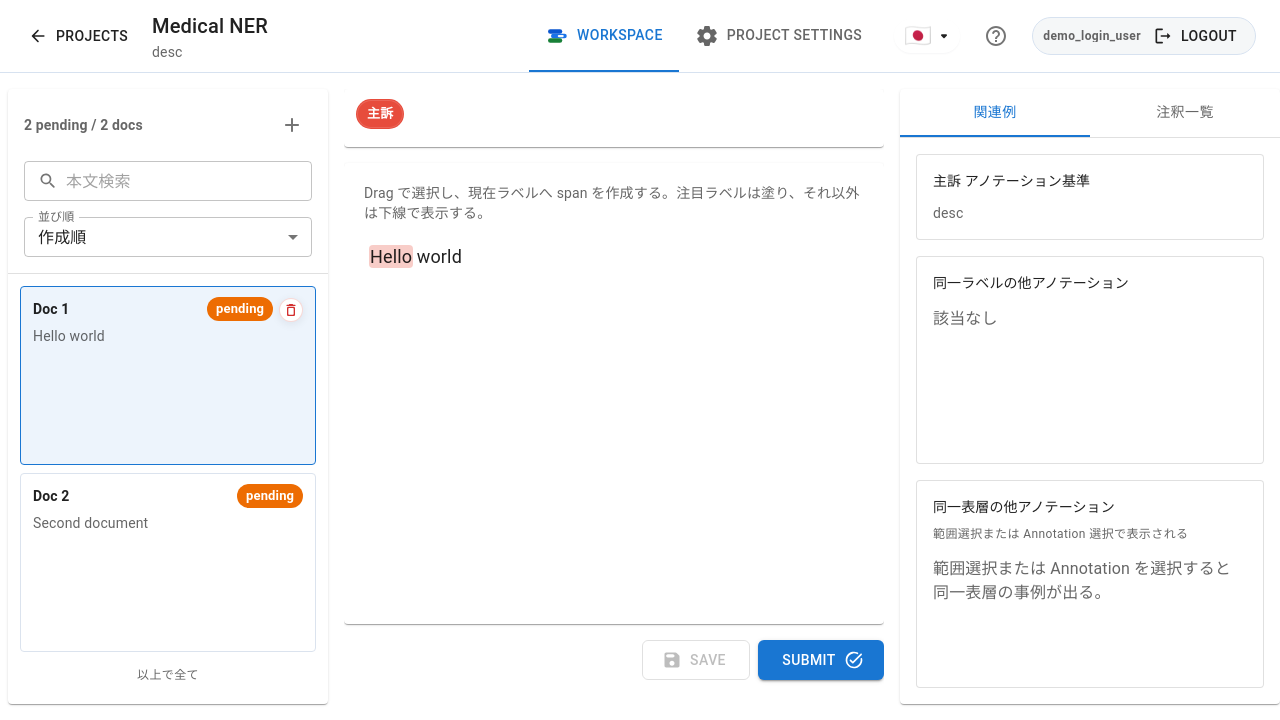
Test: ProjectShell pending changes navigation guard › discards a dirty workspace document before switching to another document
The width and height of the screenshot is (1280, 720).
Check: the text "2 pending / 2 docs" is shown, box [24,115,143,135]
Click the tab "注釈一覧": {"x": 1185, "y": 113} [1090,89,1279,137]
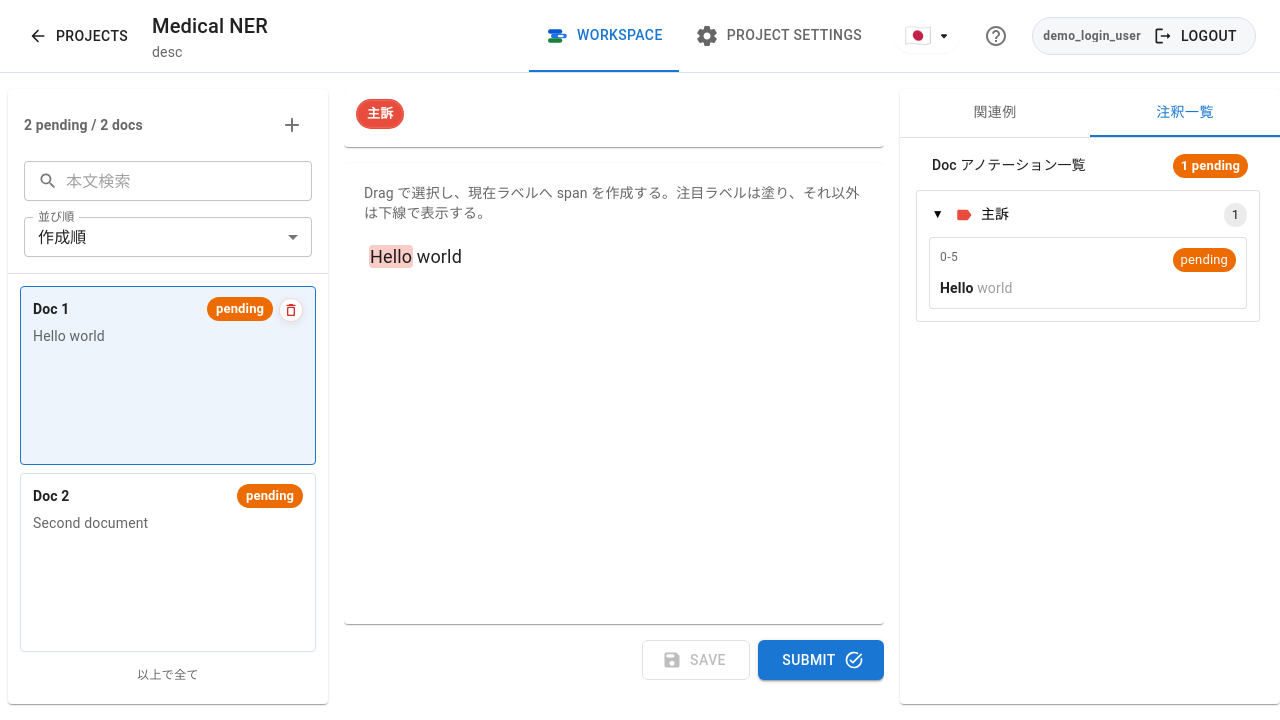
Click the text "0-5": {"x": 949, "y": 257} [940,250,958,264]
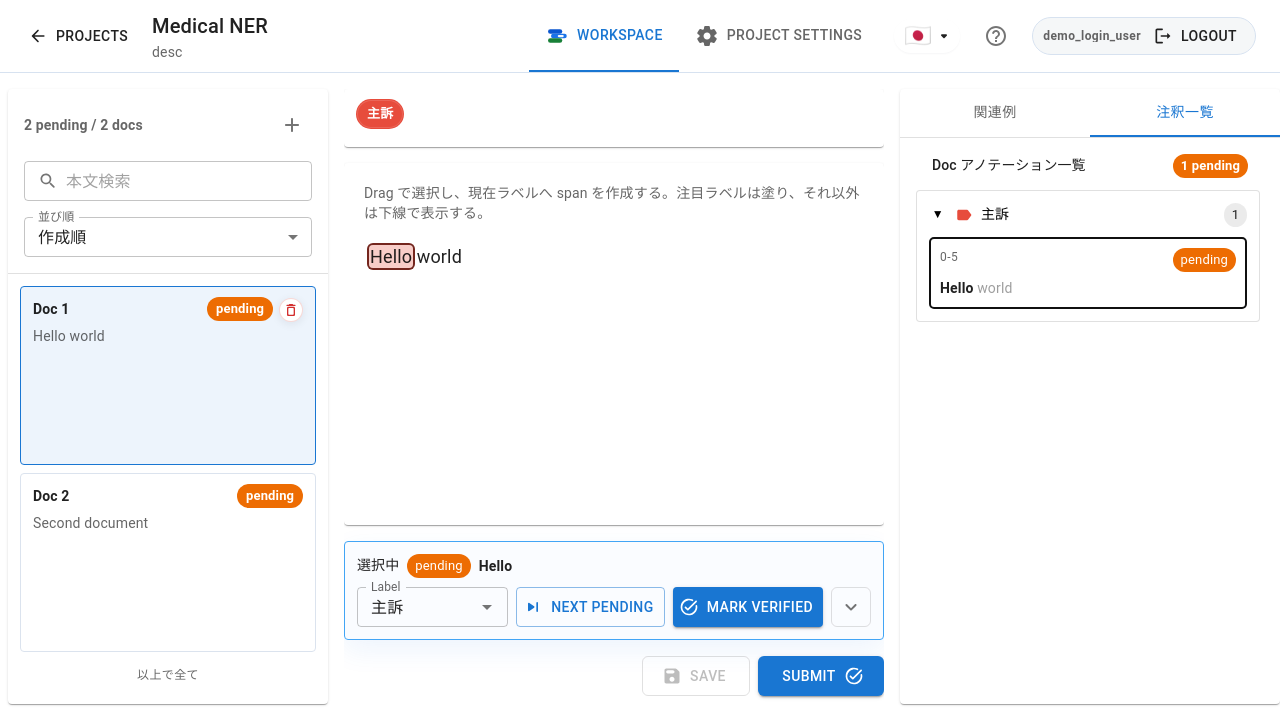
Click the button named "Annotation details": {"x": 851, "y": 607} [831,587,871,627]
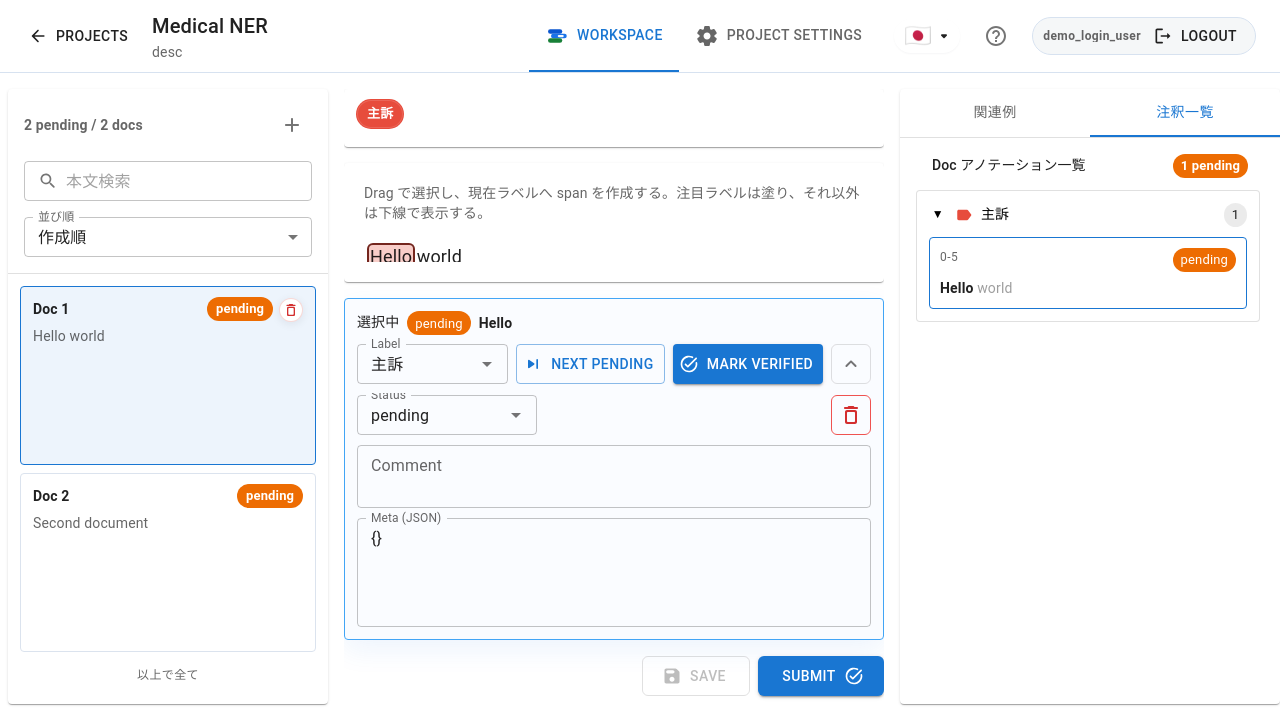
In the text box labelled "Comment": {"x": 614, "y": 476} [371,454,857,500], type "dirty comment"
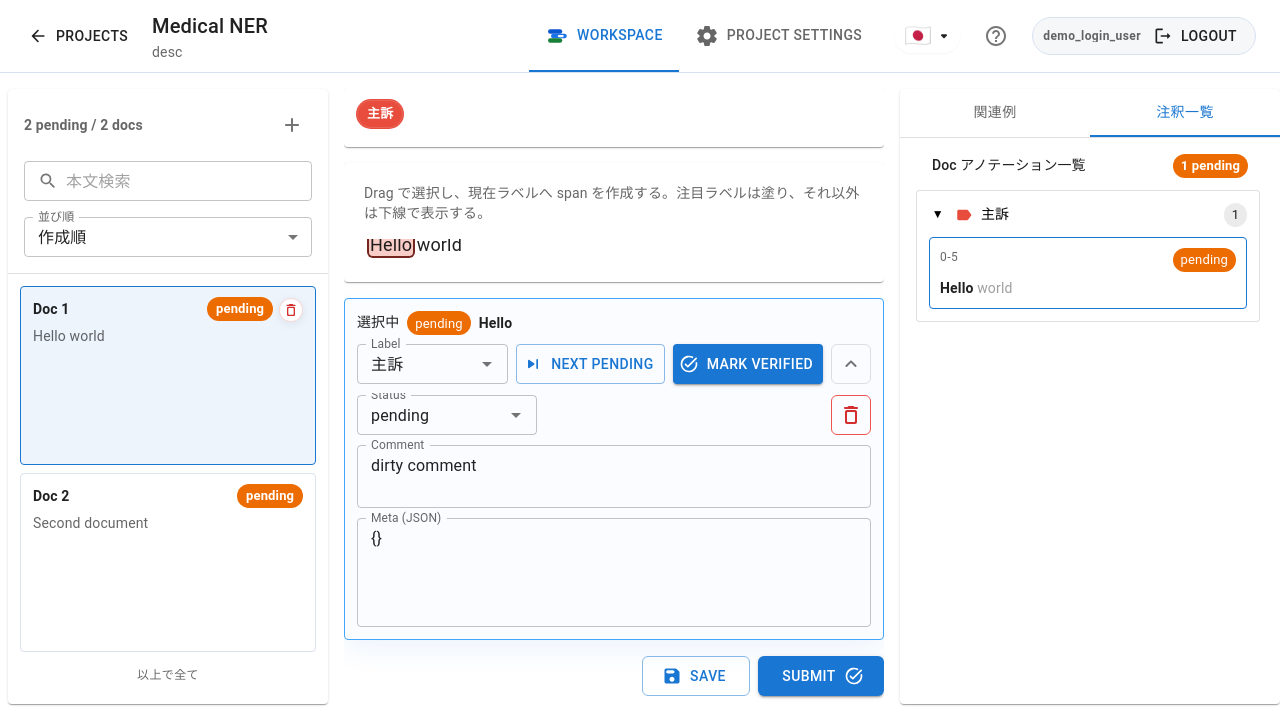
Click the button "Doc 2 Second document pending": {"x": 51, "y": 496} [20,473,316,652]
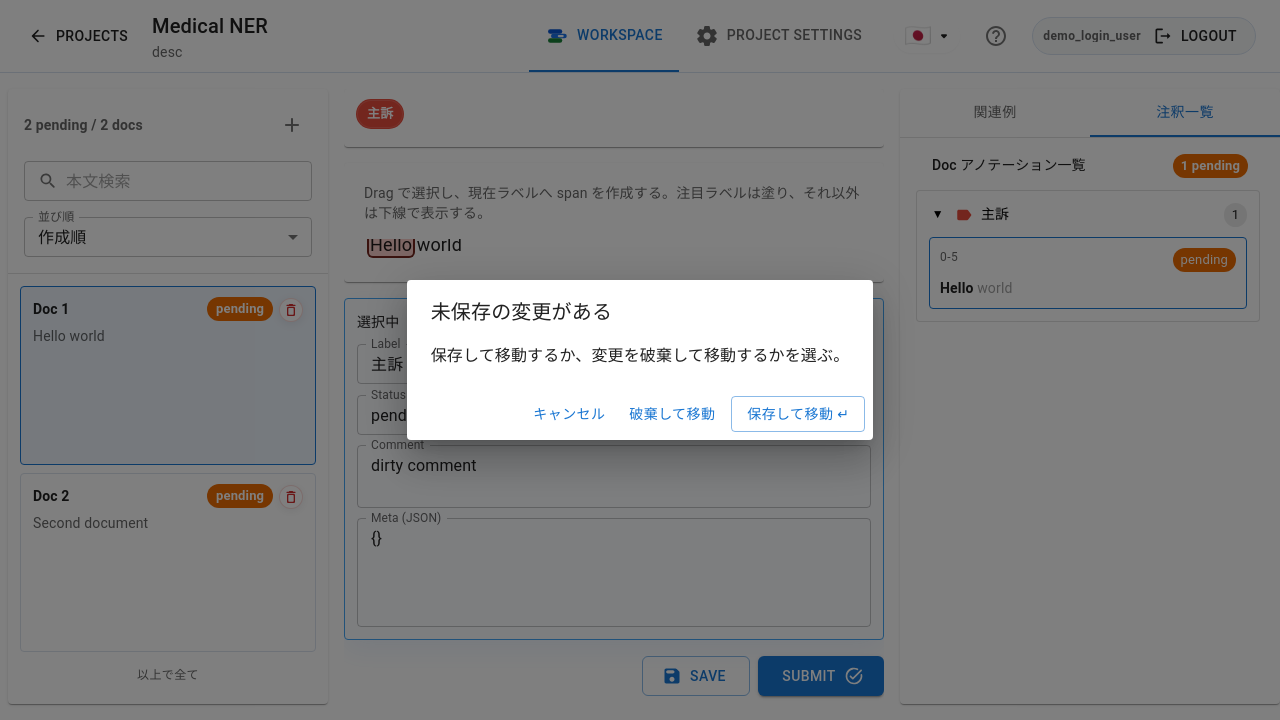
Check: the dialog "未保存の変更がある" is shown, box [407,280,873,440]
Click the button "破棄して移動": {"x": 672, "y": 414} [621,396,723,432]
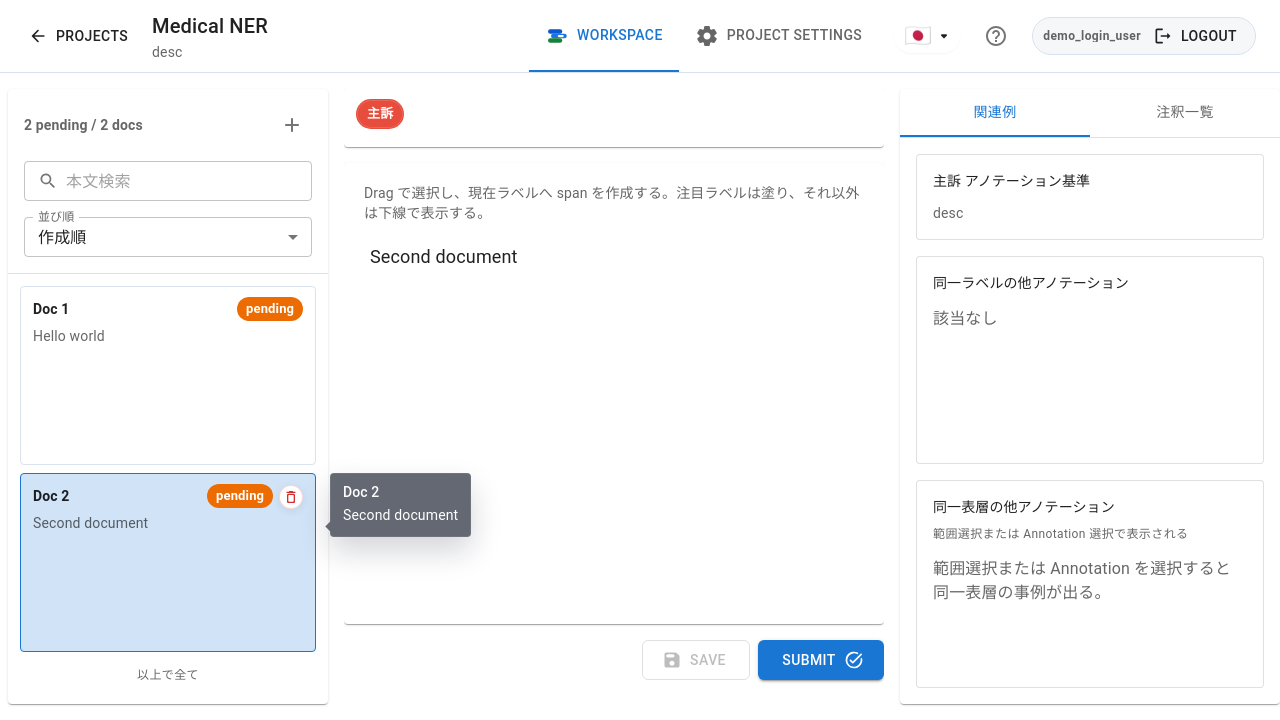
Check: the heading "未保存の変更がある" is gone
